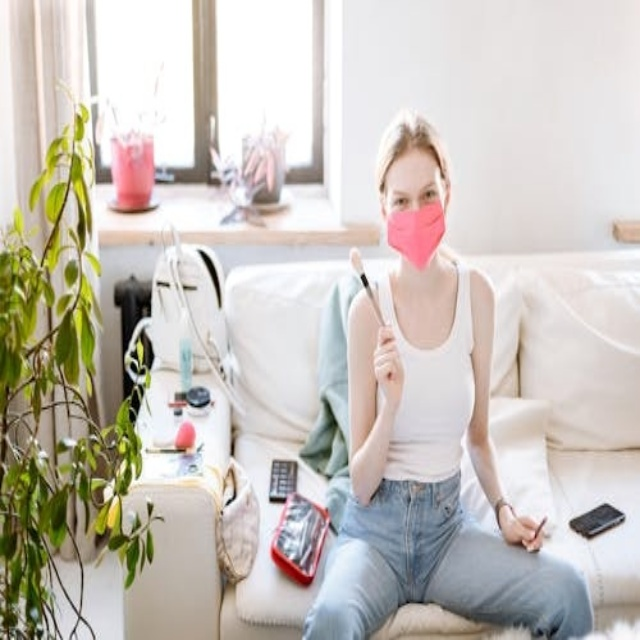Mascara: (387, 197, 447, 271)
Sin_gafas: (385, 171, 443, 209)
Sin_guantes: (494, 488, 554, 563), (371, 321, 407, 398)
